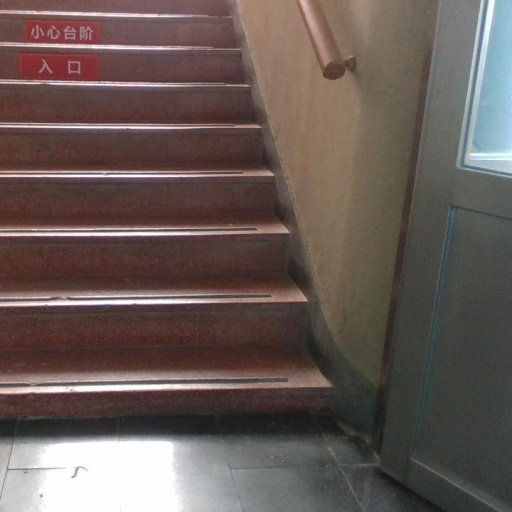Stairs: (0, 0, 331, 416)
